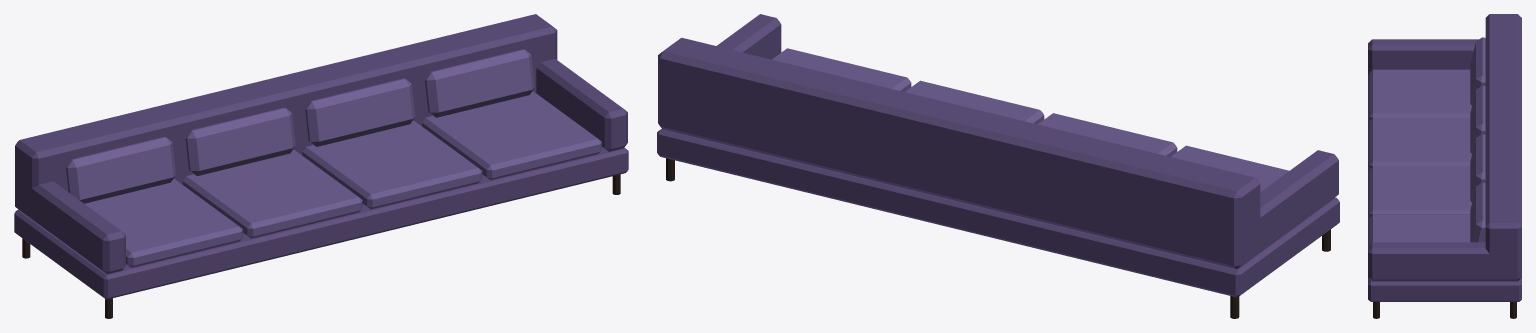
The model's file is sofa.fbx.
The picture shows the model from 3 angles, left to right: view 1: azimuth 30°, elevation 25°; view 2: azimuth 150°, elevation 25°; view 3: azimuth 270°, elevation 25°; orthographic projection. The views are drawn at different scales.
Parts seen in each view (by area): view 1: sofa; view 2: sofa; view 3: sofa.
Boxes of the visible parts, x1=… form: sofa: x1=14, y1=14, x2=628, y2=318; sofa: x1=657, y1=14, x2=1339, y2=318; sofa: x1=1368, y1=14, x2=1521, y2=318.
Bounding box in the file's own units: 3.6 × 0.76 × 1.1.
